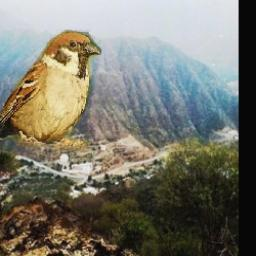Sparrow: (0, 31, 101, 152)
